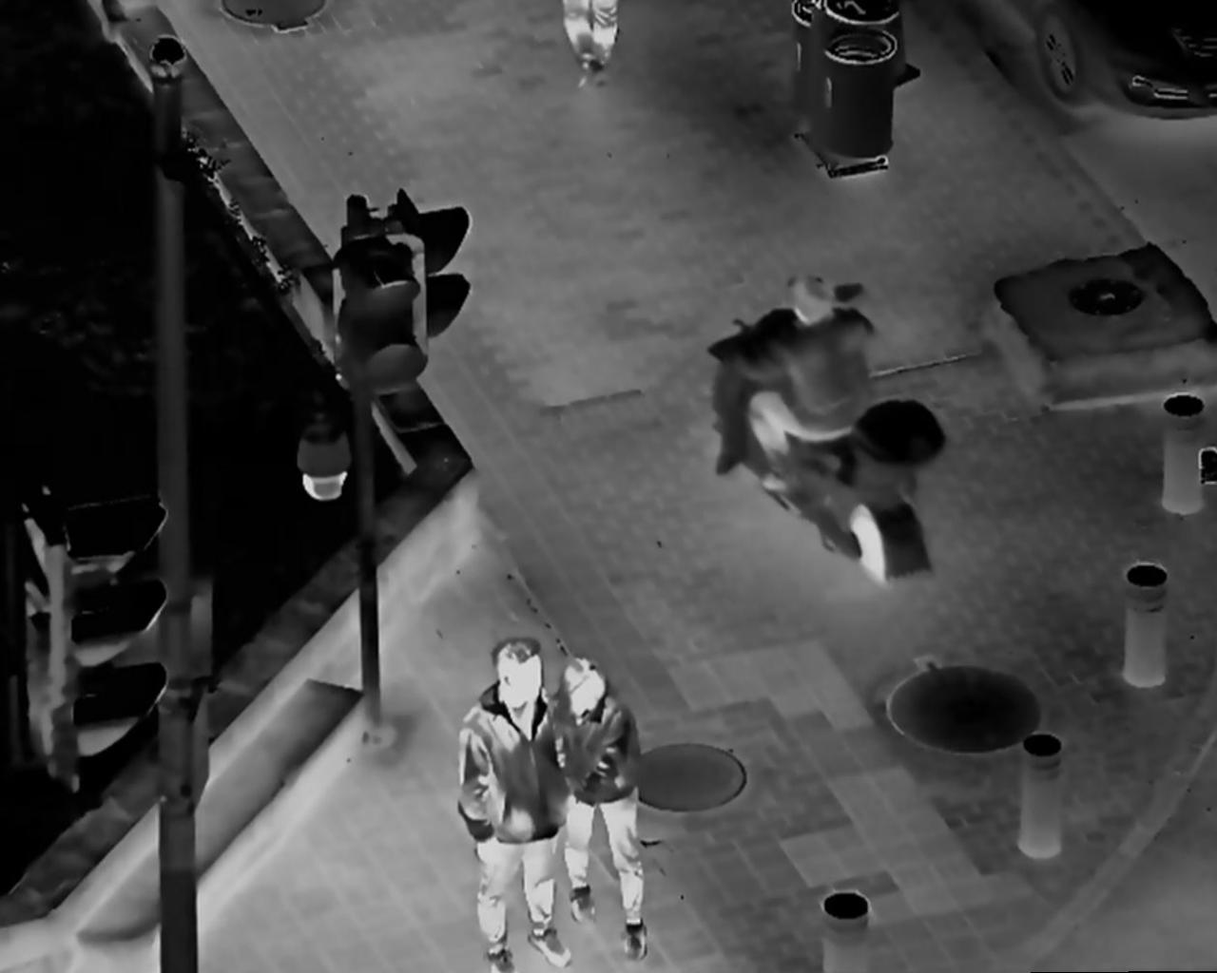person: (454, 639, 572, 973), (739, 266, 881, 506), (552, 654, 660, 967)
